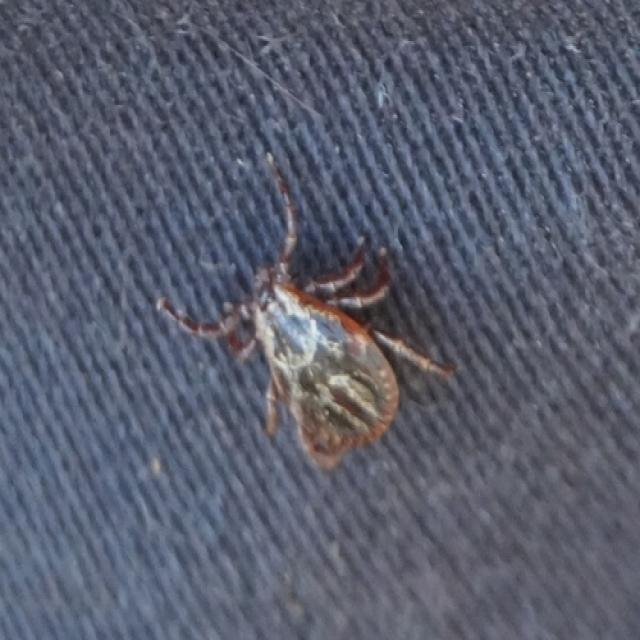Dermacentor Reticulatus-M: (159, 153, 457, 474)
